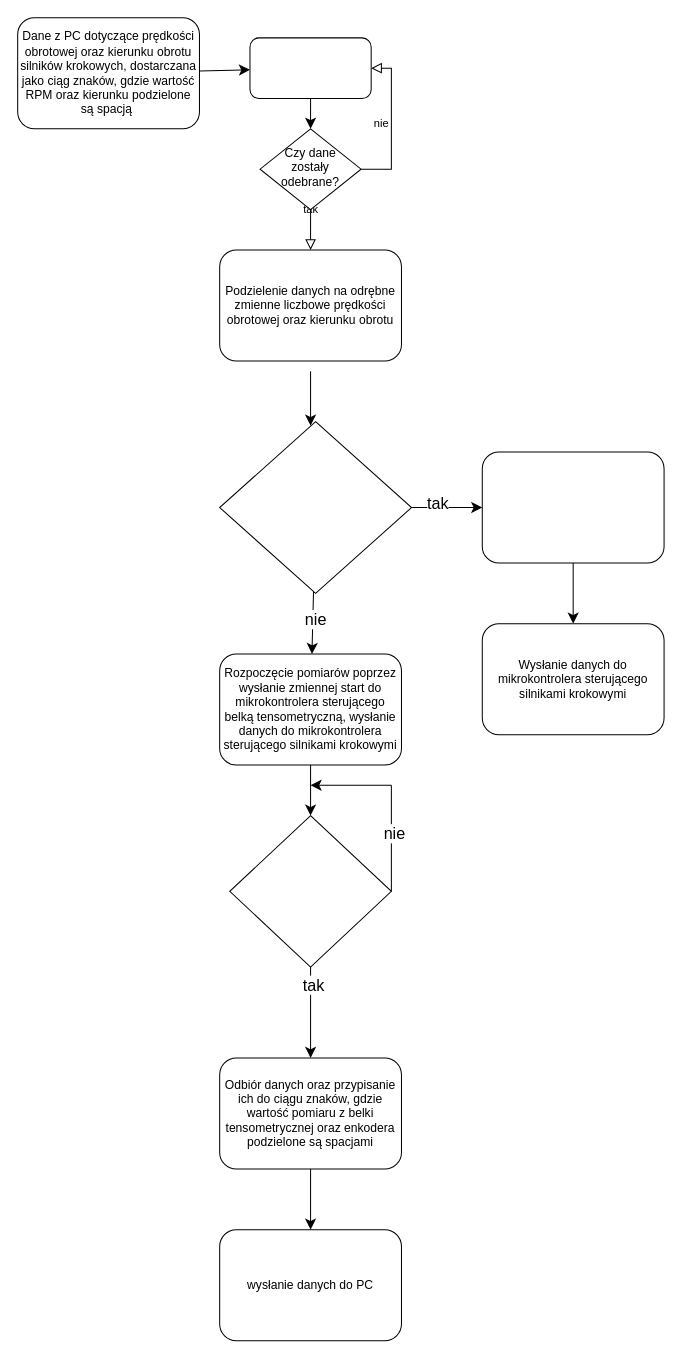
This 682x1358 diagram has some shape labels left out. The centre of each missing label's shape, as x and y in pixels:
Czy dane pomiarowe zostały odebrane?: the point at 310,891
Decyzja o nie odbieraniu danych z układów pomiarowych: the point at 572,507
Oczekiwanie na dane: the point at 310,67
Sprawdzenie czy wartość prędkości obrotowej jest równa 500: the point at 315,507
